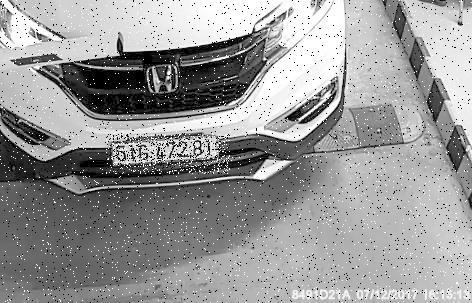License-plate: (108, 135, 232, 175)
